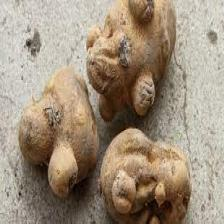Damaged potato: (83, 0, 178, 123), (20, 63, 100, 201), (100, 125, 194, 222)
